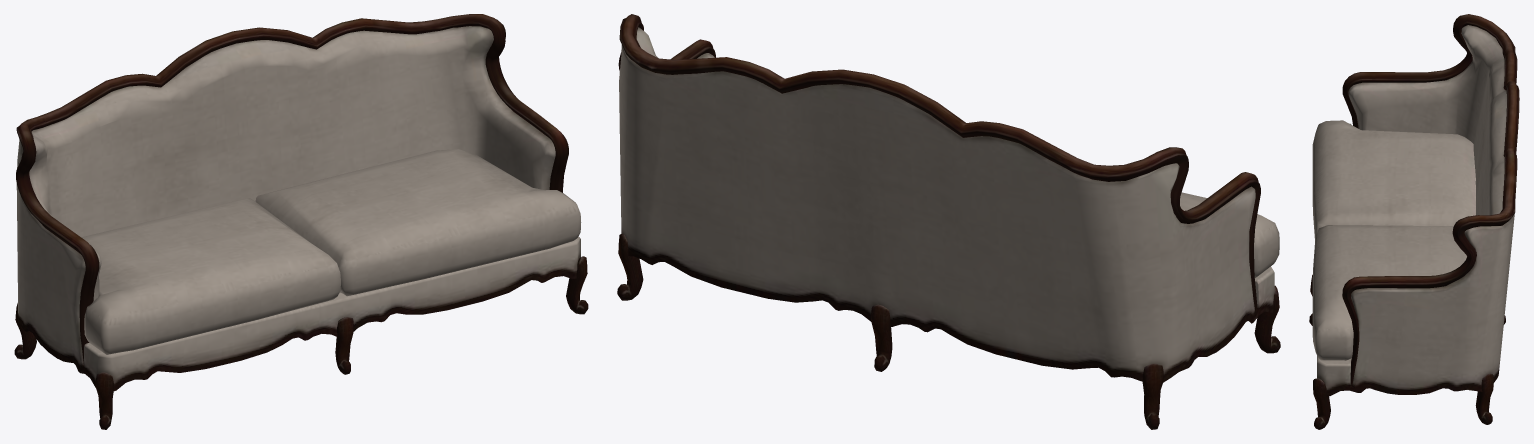
Rendered from Sofa_01.glb.
The picture shows the model from 3 angles, left to right: view 1: azimuth 30°, elevation 25°; view 2: azimuth 150°, elevation 25°; view 3: azimuth 270°, elevation 25°; orthographic projection. The views are drawn at different scales.
Parts seen in each view (by area): view 1: c18_fabric, c17_fabric, c16_fabric, c15_fabric, c14_fabric, c19_wood, c20_fabric, c11_wood, c03_wood, c10_wood; view 2: c20_fabric, c19_wood, c08_wood, c02_wood, c15_fabric, c16_fabric, c09_wood; view 3: c20_fabric, c16_fabric, c18_fabric, c17_fabric, c19_wood, c15_fabric, c10_wood, c09_wood.
Part boxes in pixels (x1=…): c18_fabric: x1=29, y1=26, x2=555, y2=301; c17_fabric: x1=255, y1=149, x2=576, y2=267; c16_fabric: x1=81, y1=198, x2=336, y2=319; c15_fabric: x1=84, y1=205, x2=581, y2=354; c14_fabric: x1=98, y1=237, x2=580, y2=391; c19_wood: x1=16, y1=14, x2=568, y2=363; c20_fabric: x1=16, y1=139, x2=579, y2=387; c11_wood: x1=95, y1=372, x2=113, y2=423; c03_wood: x1=335, y1=317, x2=353, y2=370; c10_wood: x1=569, y1=256, x2=587, y2=311; c20_fabric: x1=619, y1=44, x2=1274, y2=382; c19_wood: x1=618, y1=14, x2=1260, y2=308; c08_wood: x1=1142, y1=363, x2=1163, y2=422; c02_wood: x1=871, y1=304, x2=892, y2=366; c15_fabric: x1=1255, y1=223, x2=1279, y2=277; c16_fabric: x1=1180, y1=192, x2=1274, y2=277; c09_wood: x1=618, y1=233, x2=639, y2=297; c20_fabric: x1=1326, y1=214, x2=1514, y2=396; c16_fabric: x1=1315, y1=120, x2=1475, y2=225; c18_fabric: x1=1348, y1=25, x2=1506, y2=215; c17_fabric: x1=1315, y1=225, x2=1466, y2=359; c19_wood: x1=1342, y1=14, x2=1519, y2=384; c15_fabric: x1=1312, y1=127, x2=1350, y2=360; c10_wood: x1=1313, y1=378, x2=1329, y2=426; c09_wood: x1=1477, y1=373, x2=1493, y2=421.
Bounding box in the file's own units: 1.57 × 0.7965 × 0.658.
1 material, 1 textured.
